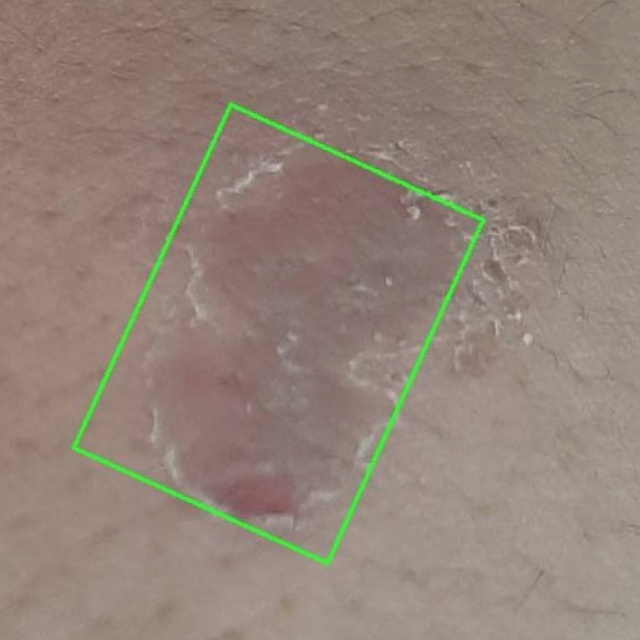Tinea Corporis: (73, 104, 482, 562)
